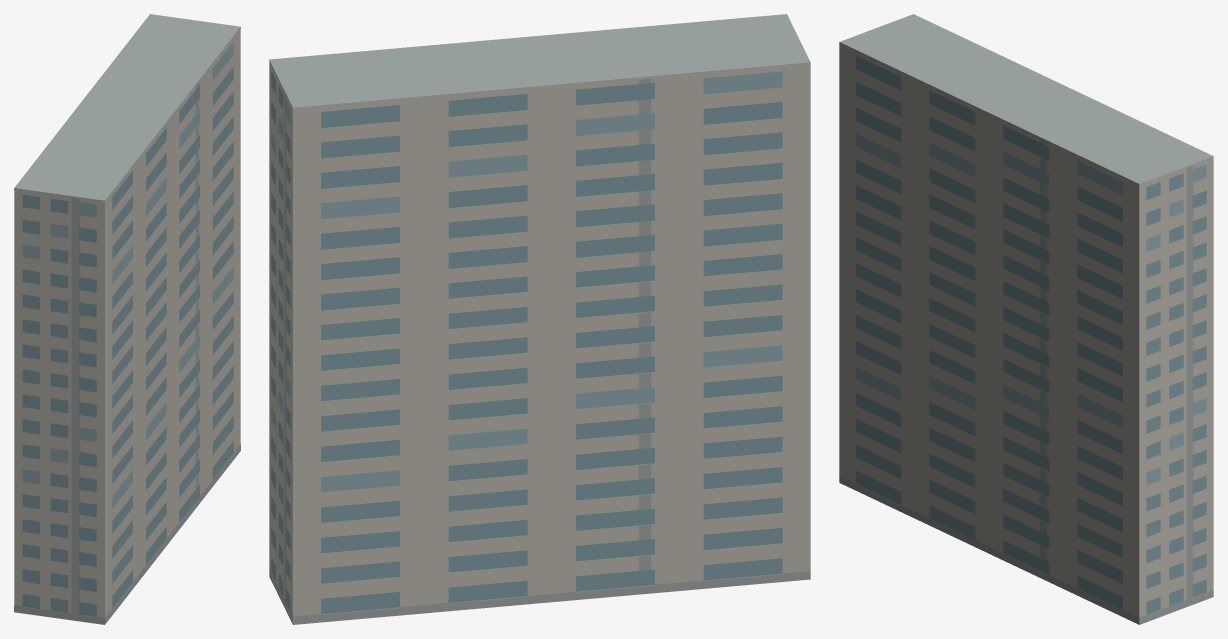
File: residential-bf727d90-e4e1-4307-af1d-b81bbeca8ee1.glb
3 renders of one model, left to right at view 1: azimuth 30°, elevation 25°; view 2: azimuth 150°, elevation 25°; view 3: azimuth 270°, elevation 25°, orthographic. The views are drawn at different scales.
Parts seen in each view (by area): view 1: residential-bf727d90-e4e1-4307-af1d-b81bbeca8ee1.tmp; view 2: residential-bf727d90-e4e1-4307-af1d-b81bbeca8ee1.tmp; view 3: residential-bf727d90-e4e1-4307-af1d-b81bbeca8ee1.tmp.
Part boxes in pixels (<box>): residential-bf727d90-e4e1-4307-af1d-b81bbeca8ee1.tmp: <box>14,14,240,624</box>; residential-bf727d90-e4e1-4307-af1d-b81bbeca8ee1.tmp: <box>269,14,810,624</box>; residential-bf727d90-e4e1-4307-af1d-b81bbeca8ee1.tmp: <box>839,14,1213,624</box>.
Bounding box in the file's own units: 43.02 × 52 × 40.01.
